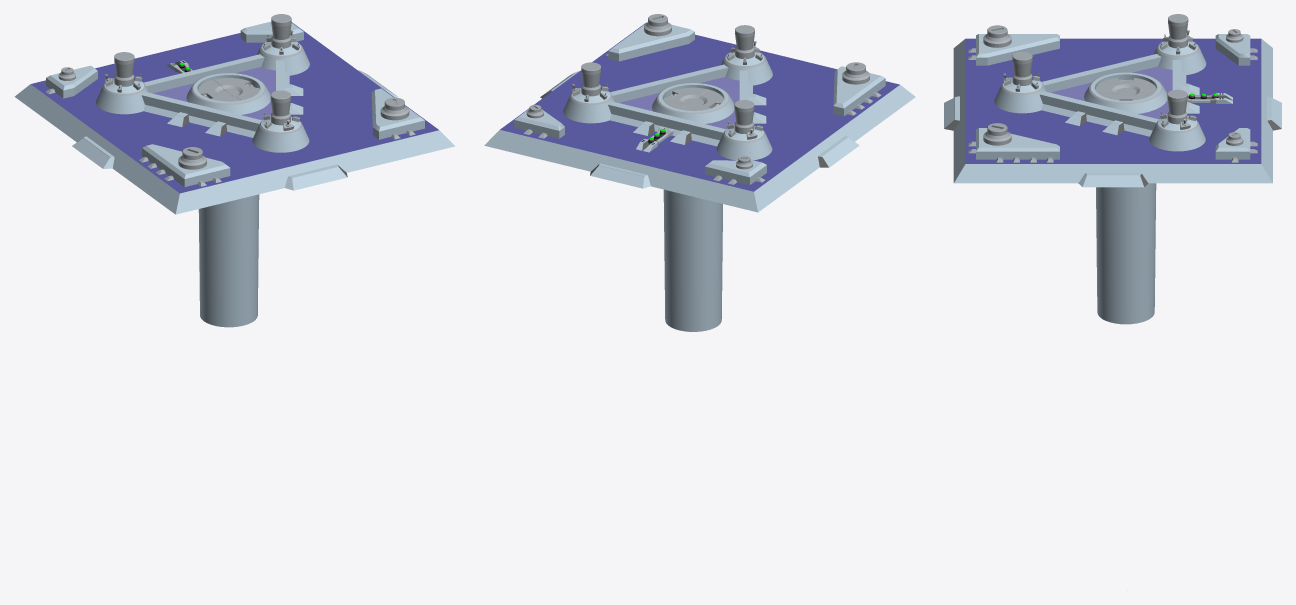
Rendered from Maaker1.fbx.
3 renders of one model, left to right at view 1: azimuth 30°, elevation 25°; view 2: azimuth 150°, elevation 25°; view 3: azimuth 270°, elevation 25°, orthographic. The views are drawn at different scales.
Visible parts, largest first — view 1: foundation_12, hole_base, boots, base, _pillar3, _pillar1, _pillar2, deets, door; view 2: foundation_12, hole_base, boots, base, _pillar1, _pillar2, deets, _pillar3, door; view 3: foundation_12, hole_base, boots, base, _pillar2, deets, _pillar3, _pillar1, door (×2).
Boxes of the visible parts, x1,y1,x2,y2 form: foundation_12: (14,22,455,214); hole_base: (186,73,270,327); boots: (46,21,424,190); base: (141,54,289,137); _pillar3: (252,90,309,152); _pillar1: (96,52,148,114); _pillar2: (256,14,309,75); deets: (46,67,415,186); door: (214,78,259,100); foundation_12: (484,22,915,212); hole_base: (652,83,734,331); boots: (514,22,885,188); base: (608,64,752,146); _pillar1: (716,100,772,160); _pillar2: (563,62,614,123); deets: (523,14,881,184); _pillar3: (721,25,772,85); door: (663,87,708,109); foundation_12: (953,38,1272,183); hole_base: (1084,72,1167,324); boots: (944,34,1281,187); base: (1039,54,1186,136); _pillar2: (1149,89,1205,151); deets: (968,25,1257,162); _pillar3: (994,51,1046,113); _pillar1: (1153,14,1206,74); door (×2): (1095,78,1156,100).
Bounding box in the file's own units: 517 × 897 × 517.
